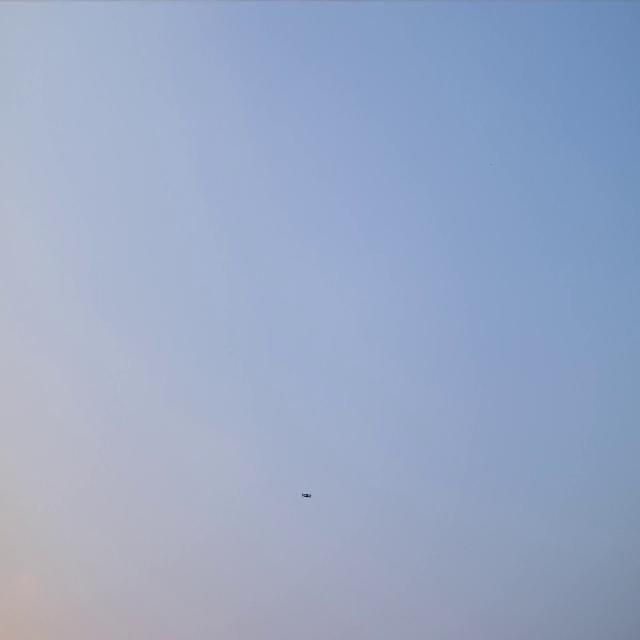UAV: (300, 492, 311, 498)
